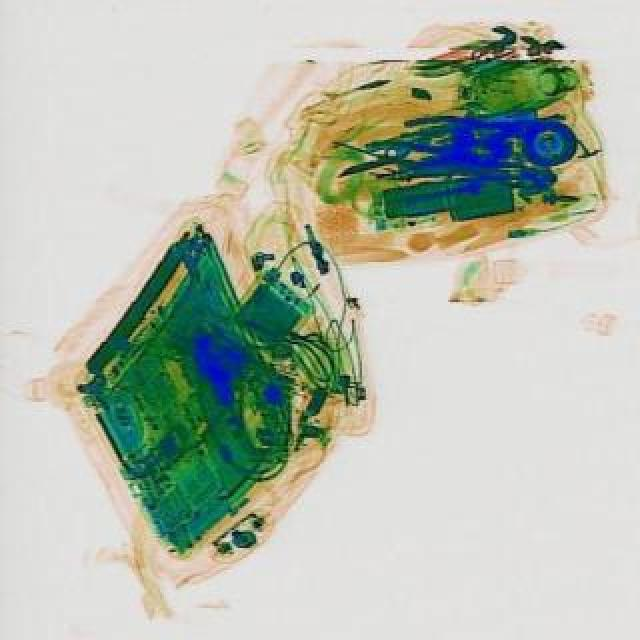wrench: (394, 110, 490, 138)
